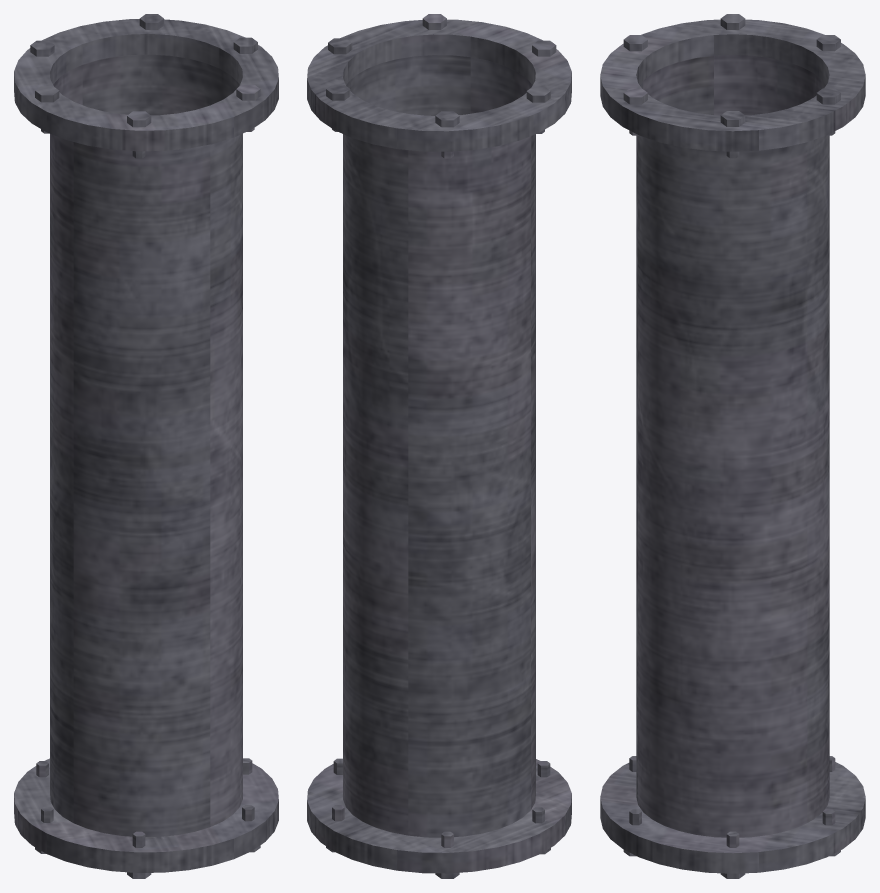
The model's file is Pipe.fbx.
The picture shows the model from 3 angles, left to right: view 1: azimuth 30°, elevation 25°; view 2: azimuth 150°, elevation 25°; view 3: azimuth 270°, elevation 25°; orthographic projection.
Parts seen in each view (by area): view 1: Pipe; view 2: Pipe; view 3: Pipe.
Boxes of the visible parts, left/top/right/bottom form: Pipe: left=14, top=14, right=278, bottom=878; Pipe: left=307, top=14, right=571, bottom=878; Pipe: left=600, top=14, right=865, bottom=878.
Size of the model in its own units: 274 by 866 by 274.
